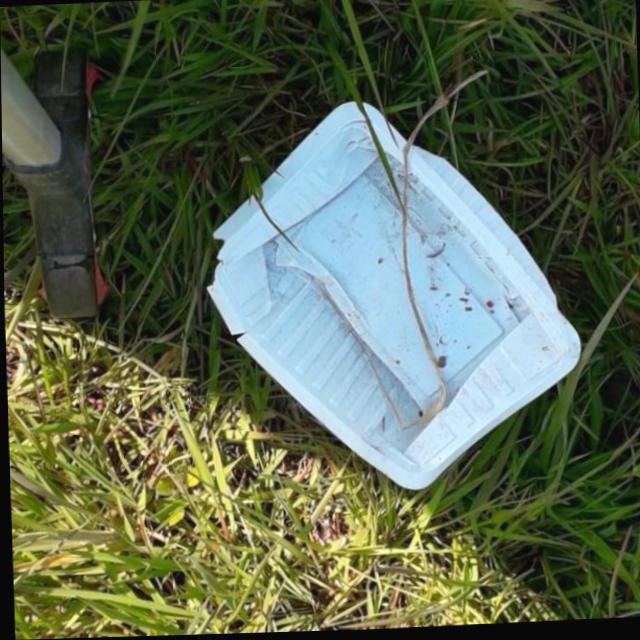Plastic: (194, 90, 587, 505)
